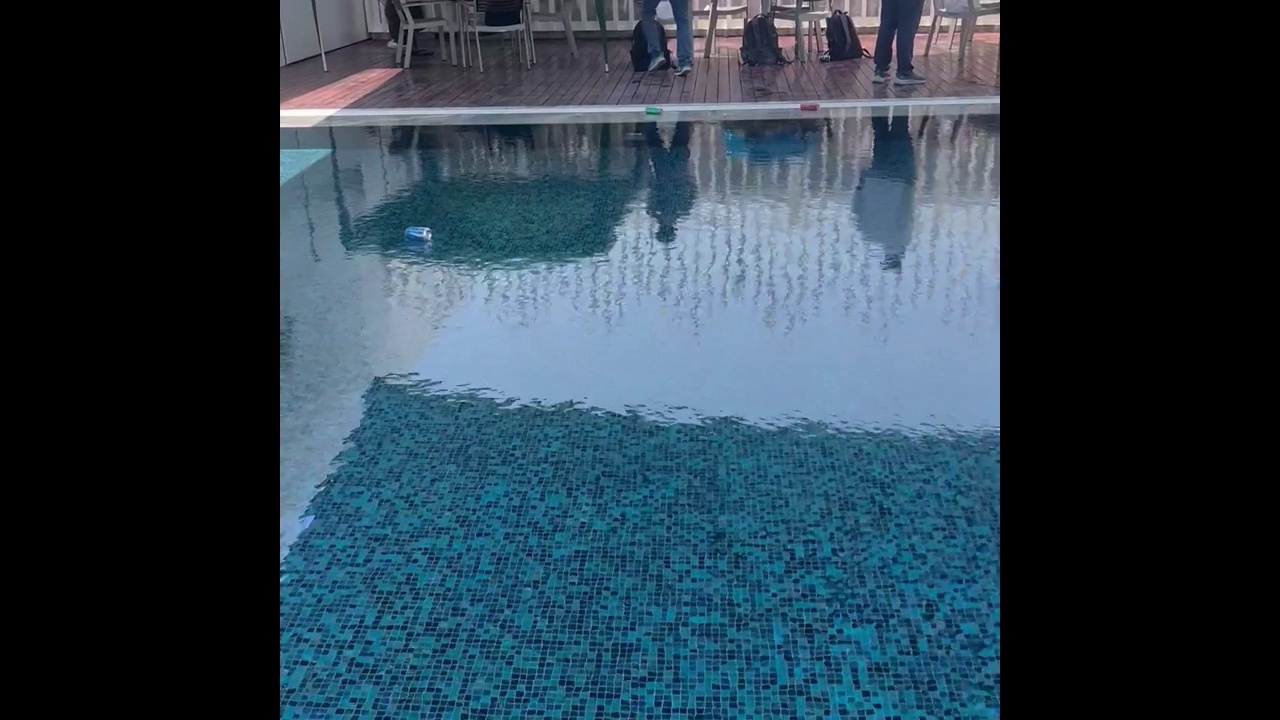debris: (401, 222, 434, 246), (798, 98, 822, 113), (644, 104, 662, 116)
